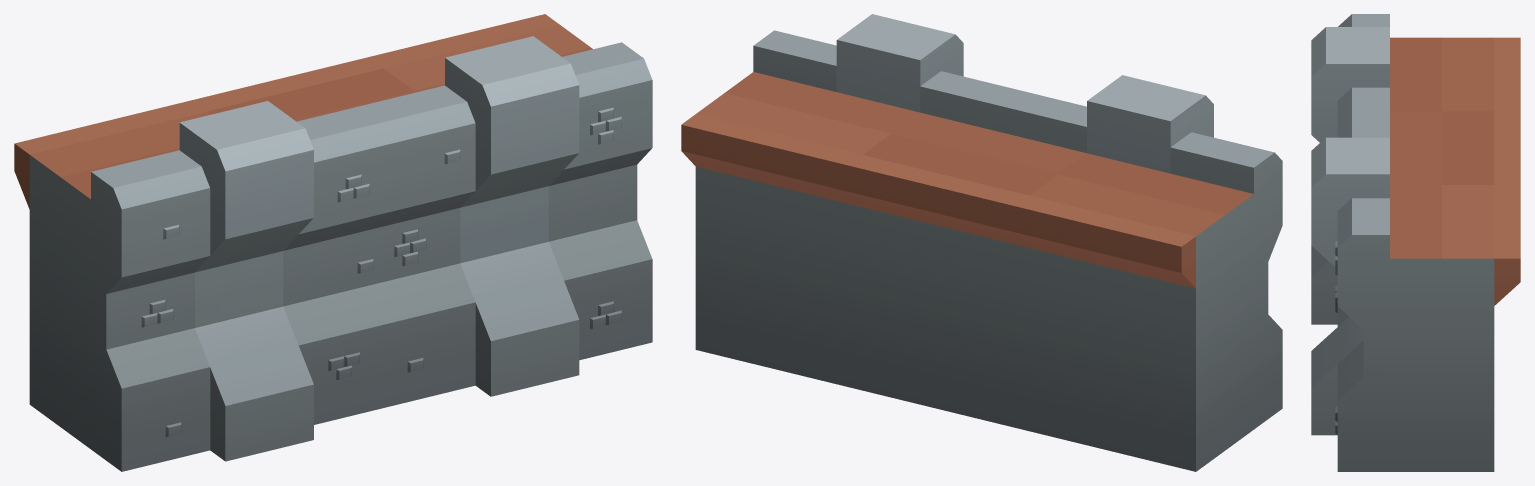
Rendered from kay-muralha.gltf.
3 views of the same model, side by side, from view 1: azimuth 30°, elevation 25°; view 2: azimuth 150°, elevation 25°; view 3: azimuth 270°, elevation 25° (orthographic). The views are drawn at different scales.
Visible parts, largest first — view 1: wall_straight; view 2: wall_straight; view 3: wall_straight.
Part boxes in pixels (box(x1,y1,x2,y2)): wall_straight: box(14, 14, 652, 471); wall_straight: box(681, 14, 1282, 471); wall_straight: box(1311, 14, 1520, 471).
Size of the model in its own units: 10 by 5.5 by 4.
1 material, 1 textured.
